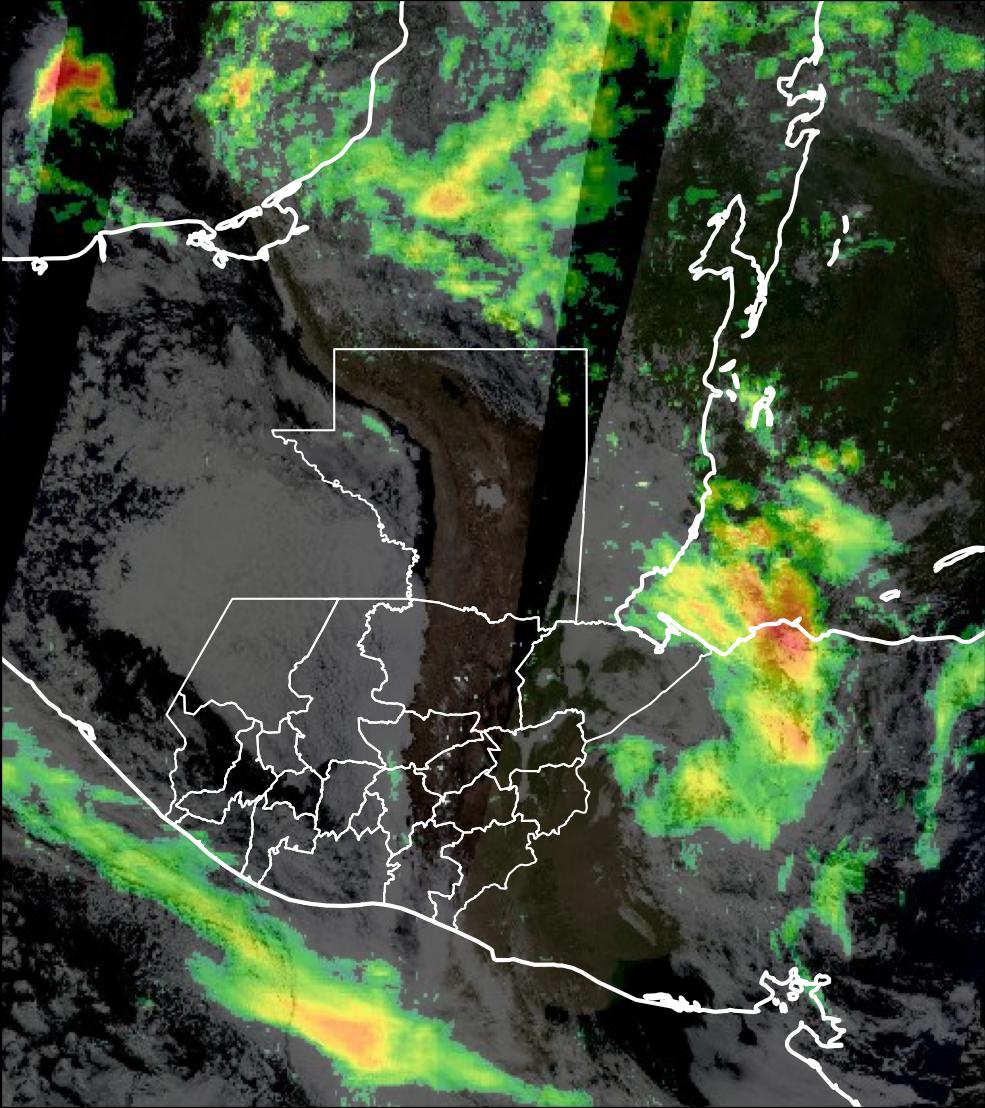precipitacion: (276, 996, 402, 1083), (29, 39, 117, 127)
